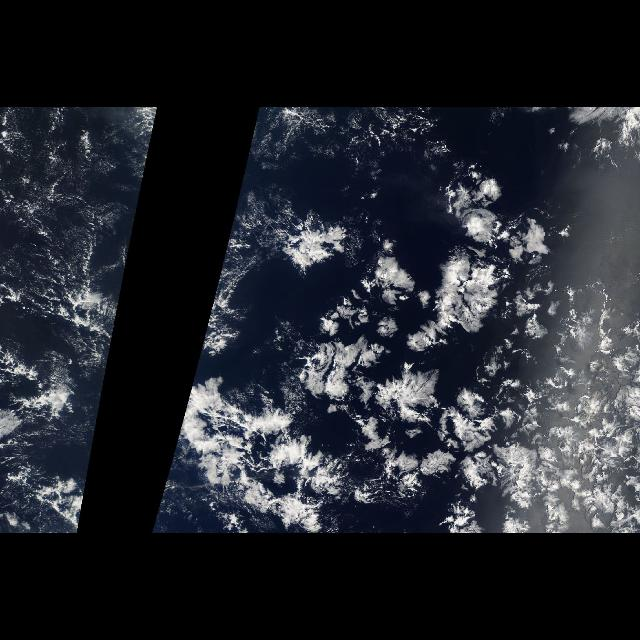Flower: (258, 177, 640, 533)
Sugar: (2, 110, 158, 296)
